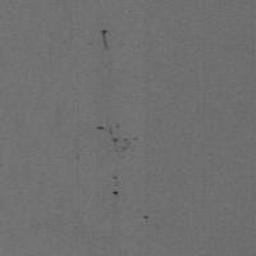Inclusion: (96, 120, 140, 156), (100, 28, 110, 52), (111, 174, 120, 197), (143, 214, 151, 220)
